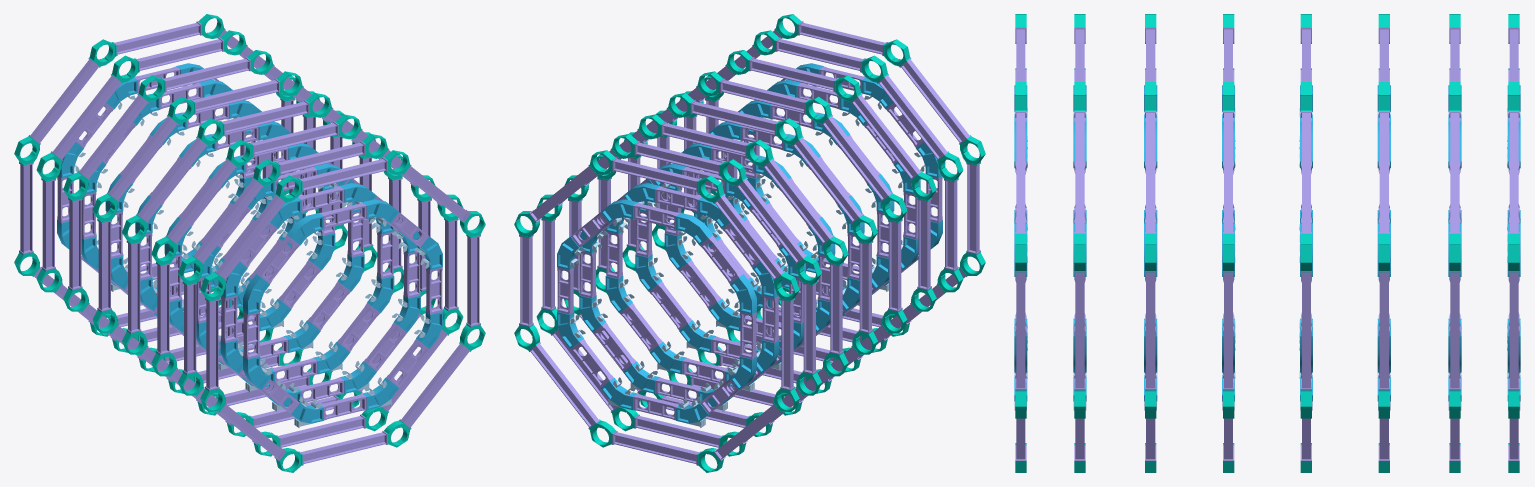
File: op-Warm-Structure(asanadan).glb
3 views of the same model, side by side, from view 1: azimuth 30°, elevation 25°; view 2: azimuth 150°, elevation 25°; view 3: azimuth 270°, elevation 25° (orthographic). The views are drawn at different scales.
Parts seen in each view (by area): view 1: Warm-Structure; view 2: Warm-Structure; view 3: Warm-Structure.
Part boxes in pixels (x1=…): Warm-Structure: x1=14, y1=14, x2=485, y2=472; Warm-Structure: x1=514, y1=14, x2=985, y2=472; Warm-Structure: x1=1014, y1=14, x2=1520, y2=472.
Bounding box in the file's own units: 18.93 × 18.93 × 22.28.
